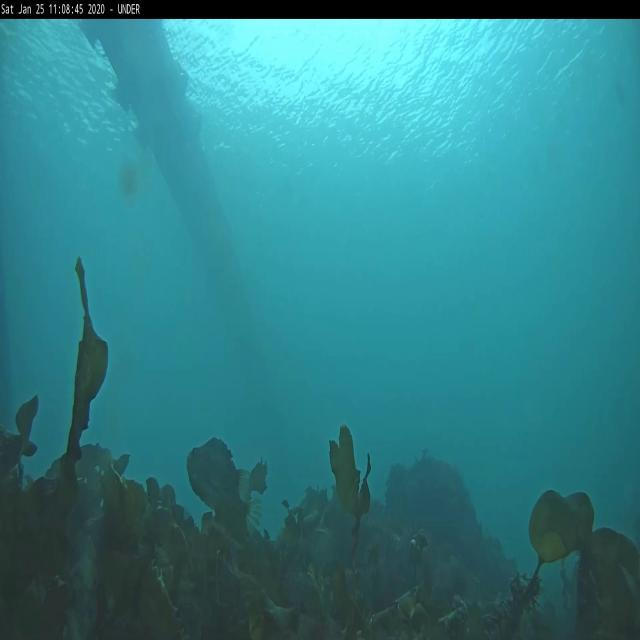fish: (187, 433, 270, 545)
